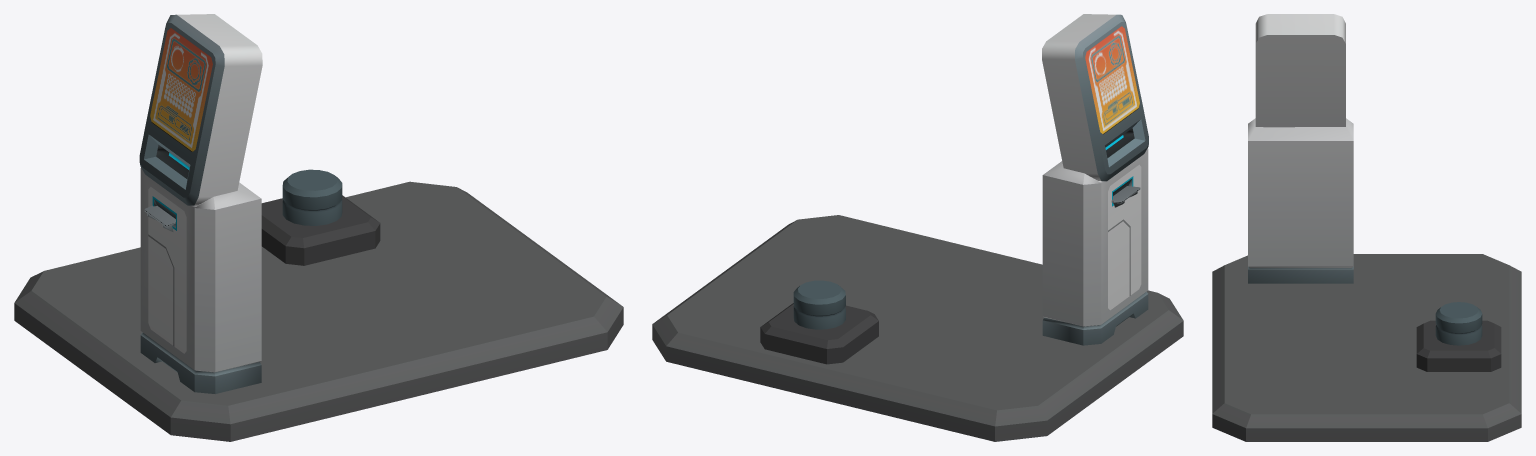
3 renders of one model, left to right at view 1: azimuth 30°, elevation 25°; view 2: azimuth 150°, elevation 25°; view 3: azimuth 270°, elevation 25°, orthographic. The views are drawn at different scales.
Visible parts, largest first — view 1: Сapsule_013; view 2: Сapsule_013; view 3: Сapsule_013.
Part boxes in pixels (bbox=[...]): Сapsule_013: bbox=[14, 14, 623, 441]; Сapsule_013: bbox=[652, 14, 1183, 441]; Сapsule_013: bbox=[1212, 14, 1521, 441].
Size of the model in its own units: 268 by 205 by 206.
